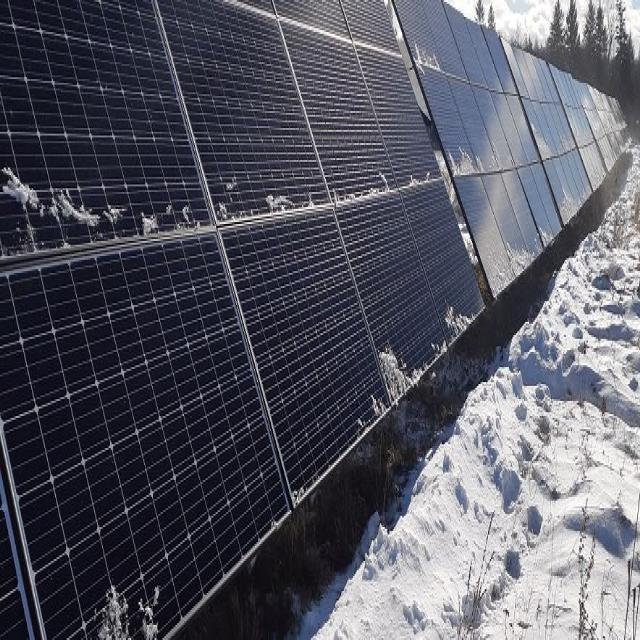Snow: (142, 177, 298, 240), (2, 165, 128, 227), (355, 341, 433, 441), (331, 163, 435, 206), (91, 580, 163, 637), (425, 296, 481, 361), (483, 242, 538, 299), (557, 175, 592, 226), (411, 41, 443, 77), (528, 118, 551, 160), (450, 146, 476, 174), (535, 226, 555, 248)
